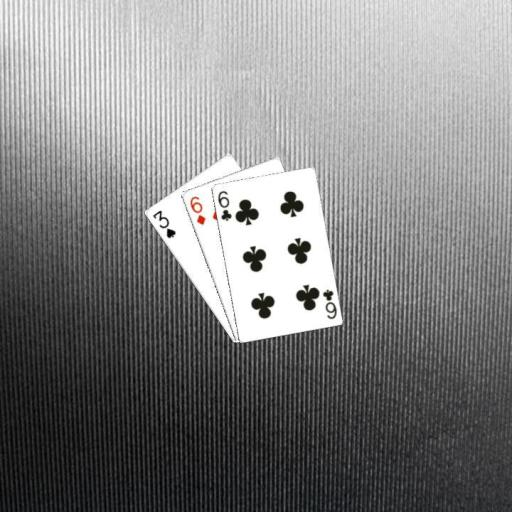3S: (149, 207, 177, 240)
6C: (214, 187, 233, 222), (319, 286, 338, 320)
6D: (186, 193, 207, 226)
